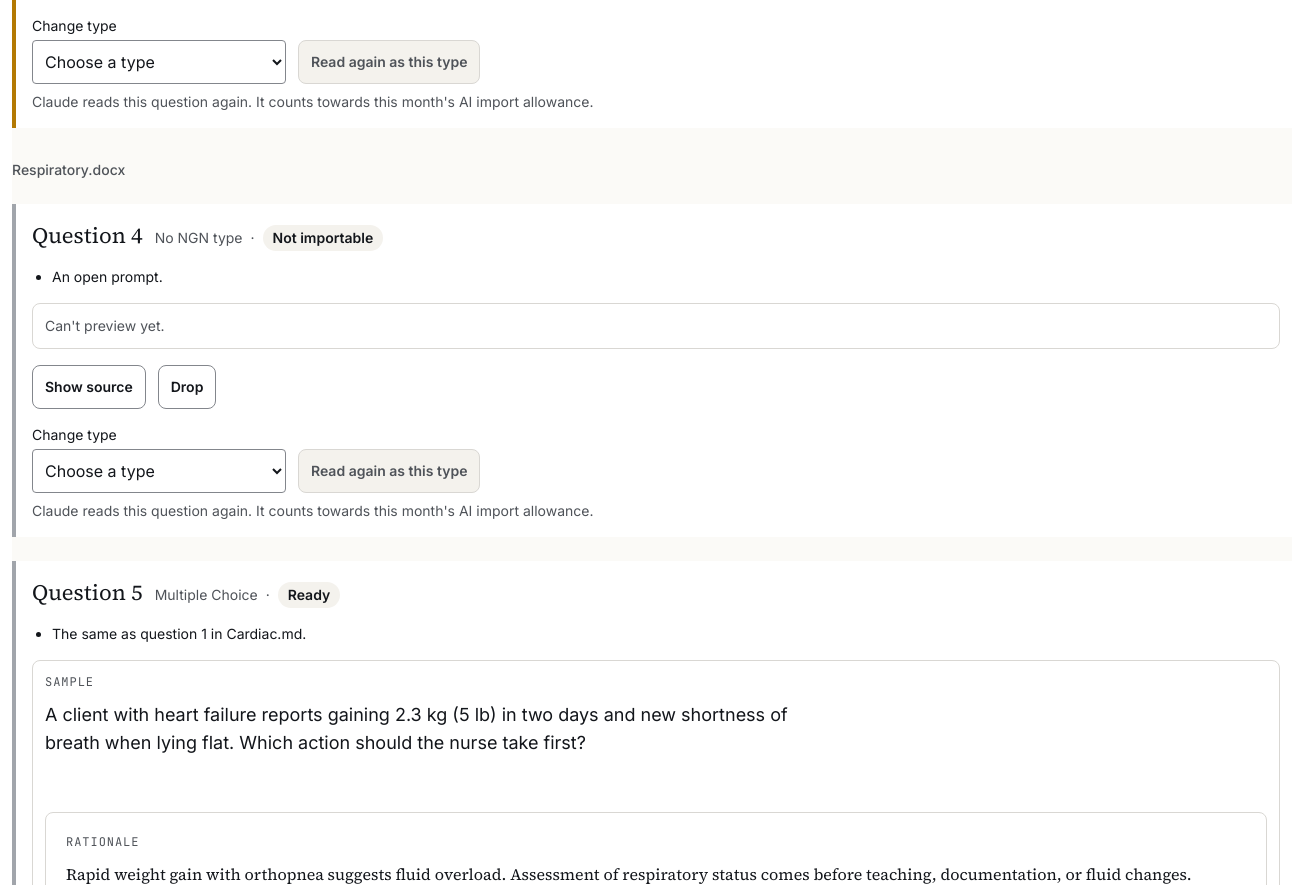
Test case: AiImportReview (#346) › shows the source on a toggle
(page scrolled)
Click the button "Show source" below "An open prompt." at coordinates (89, 388), box [32,366,146,410]
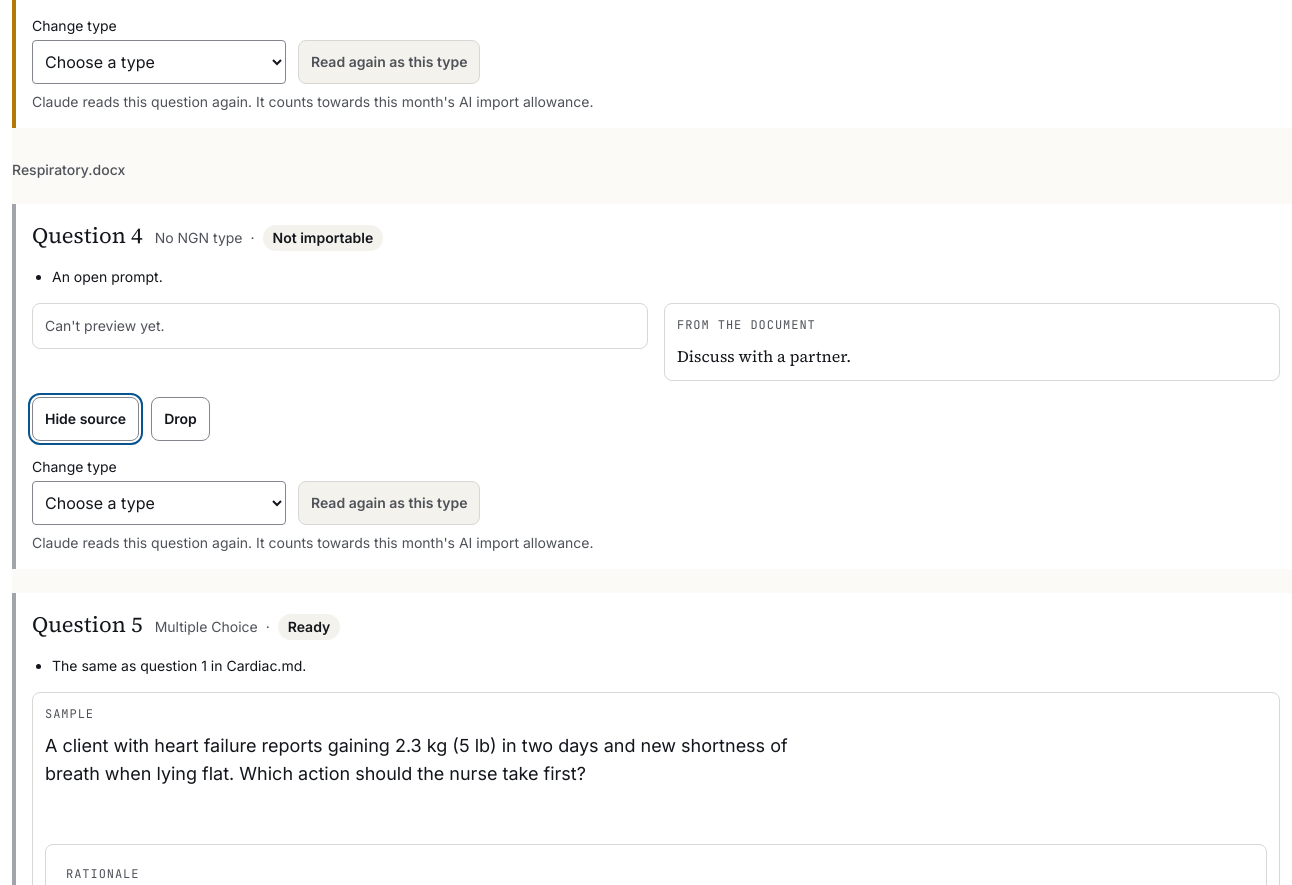
Expected: the button "Hide source" is expanded, [32,397,139,441]
Expected: the element named "Question 4, source" shows "Discuss with a partner.", [677,345,851,367]
